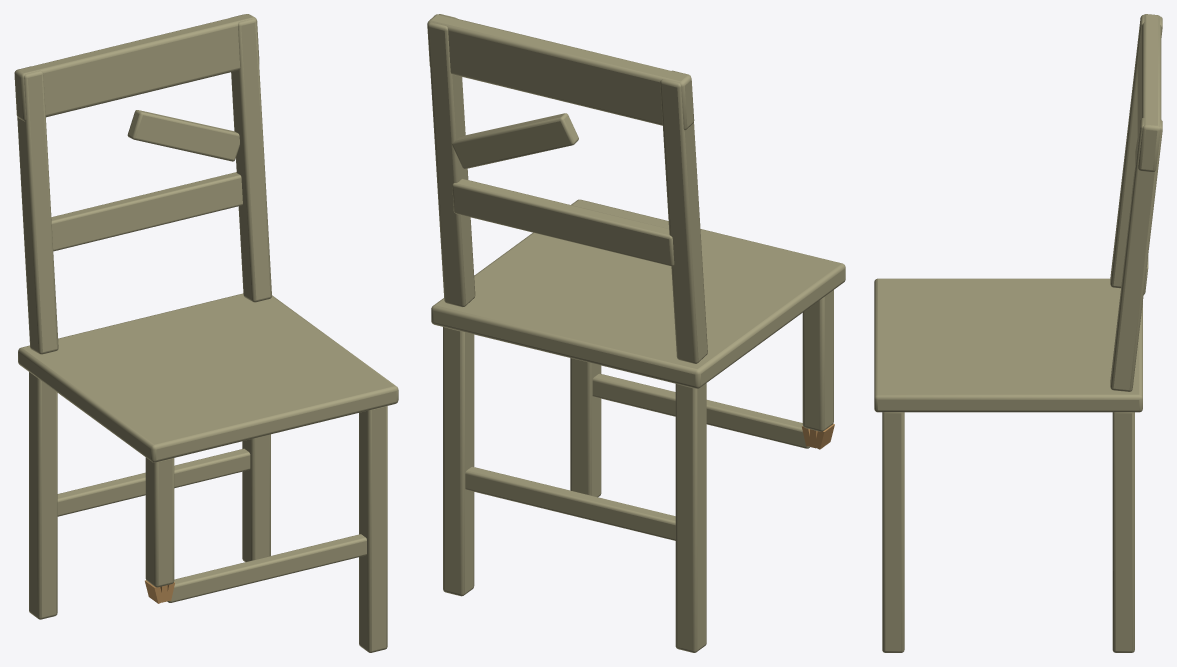
File: broken_chair.fbx
3 renders of one model, left to right at view 1: azimuth 30°, elevation 25°; view 2: azimuth 150°, elevation 25°; view 3: azimuth 270°, elevation 25°, orthographic. The views are drawn at different scales.
Visible parts, largest first — view 1: broken_chair; view 2: broken_chair; view 3: broken_chair.
Part boxes in pixels (x1,y1,x2,y2): broken_chair: (14, 14, 398, 652); broken_chair: (427, 14, 845, 652); broken_chair: (874, 14, 1162, 652).
Bounding box in the file's own units: 0.44 × 0.9107 × 0.4509.
